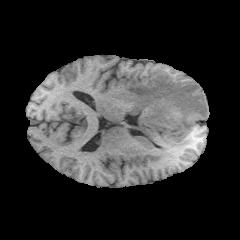glioma: (126, 72, 208, 150)
